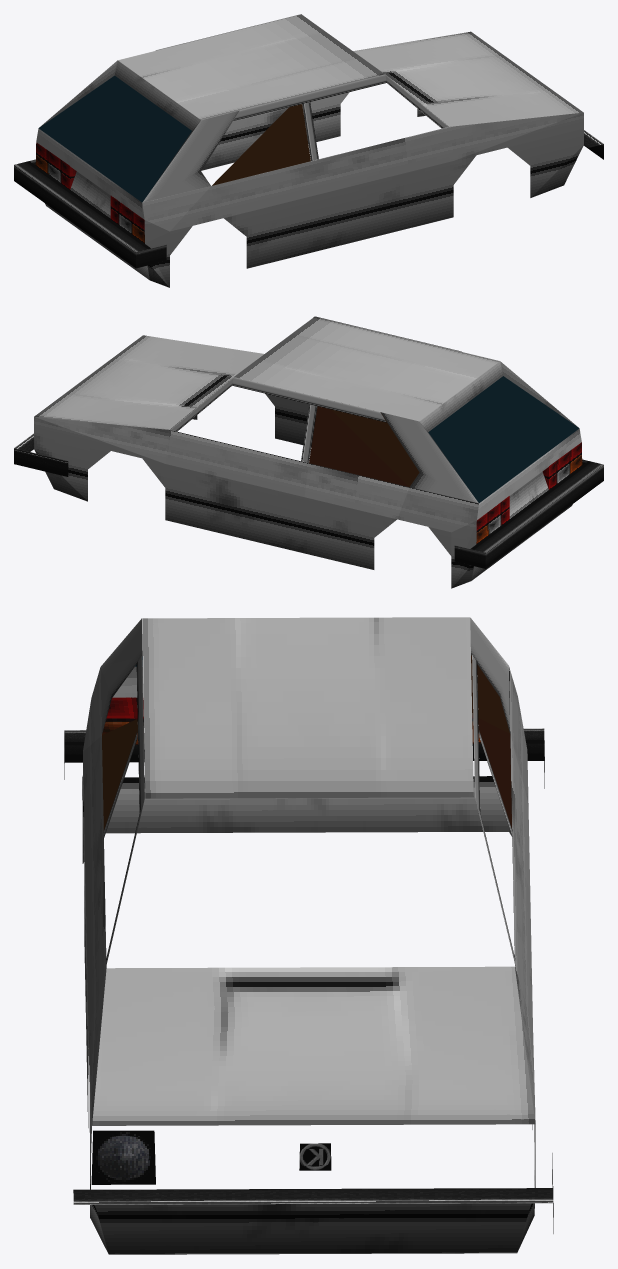
File: primary_012.glb
3 renders of one model, top to bottom at view 1: azimuth 30°, elevation 25°; view 2: azimuth 150°, elevation 25°; view 3: azimuth 270°, elevation 25°, orthographic. The views are drawn at different scales.
Parts seen in each view (by area): view 1: Object; view 2: Object; view 3: Object.
Part boxes in pixels (<box>): Object: <box>14,14,603,287</box>; Object: <box>14,316,603,588</box>; Object: <box>64,617,553,1254</box>.
Bounding box in the file's own units: 4.62 × 1.36 × 2.08.
40 materials, 40 textured.
